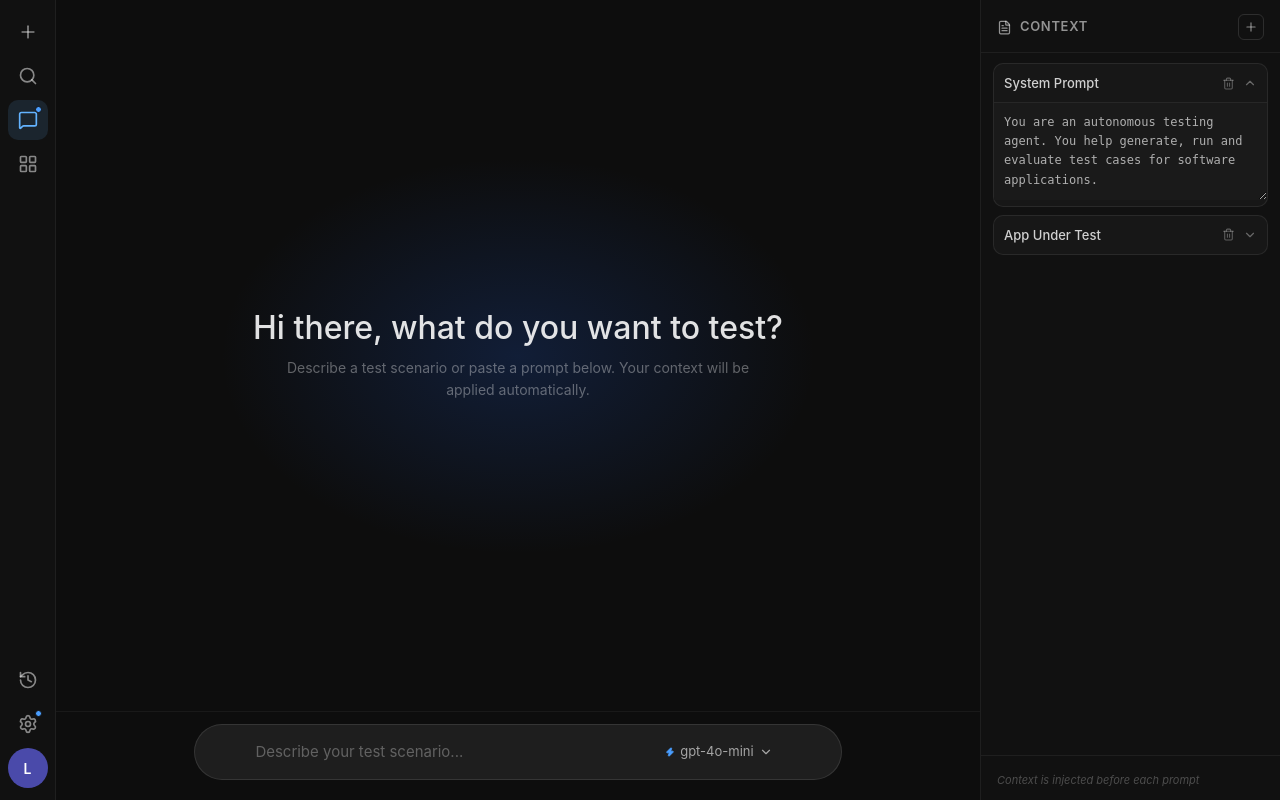
Test: App menu navigation › renders the History interface when History is clicked
This screenshot has width=1280, height=800.
Click the button titled "History" at coordinates (28, 680), box top-left (8, 660), bottom-right (48, 700)
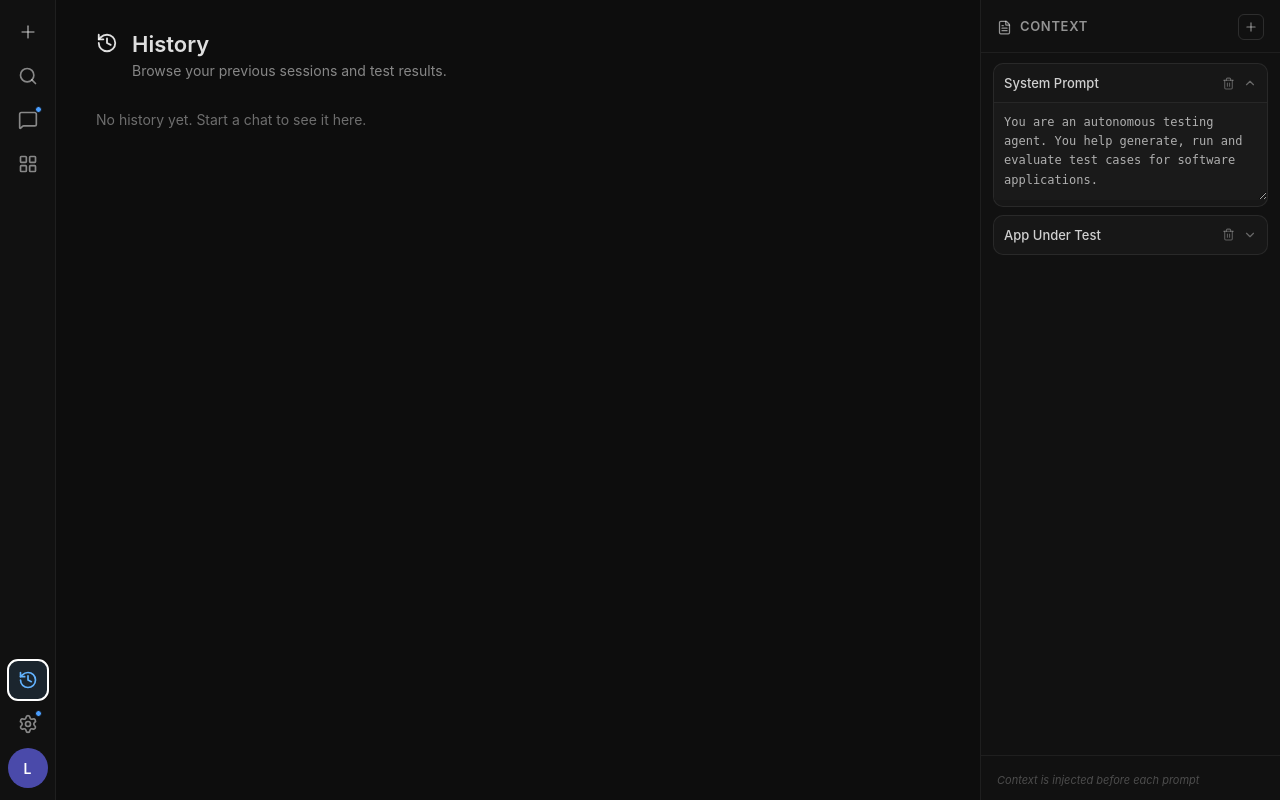
Result: the heading "History" is shown at top-left (132, 31), bottom-right (209, 57)
Result: the text "No history yet. Start a chat to see it here." is shown at top-left (96, 111), bottom-right (366, 128)
